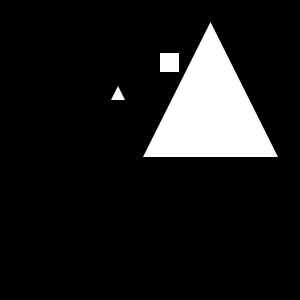circle: (160, 53, 179, 72)
triangle: (143, 22, 278, 157), (111, 86, 125, 100)
